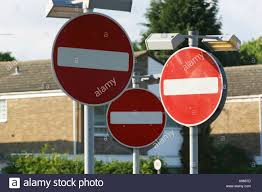No_entry: (52, 12, 134, 105), (159, 46, 223, 127), (106, 88, 167, 149)
